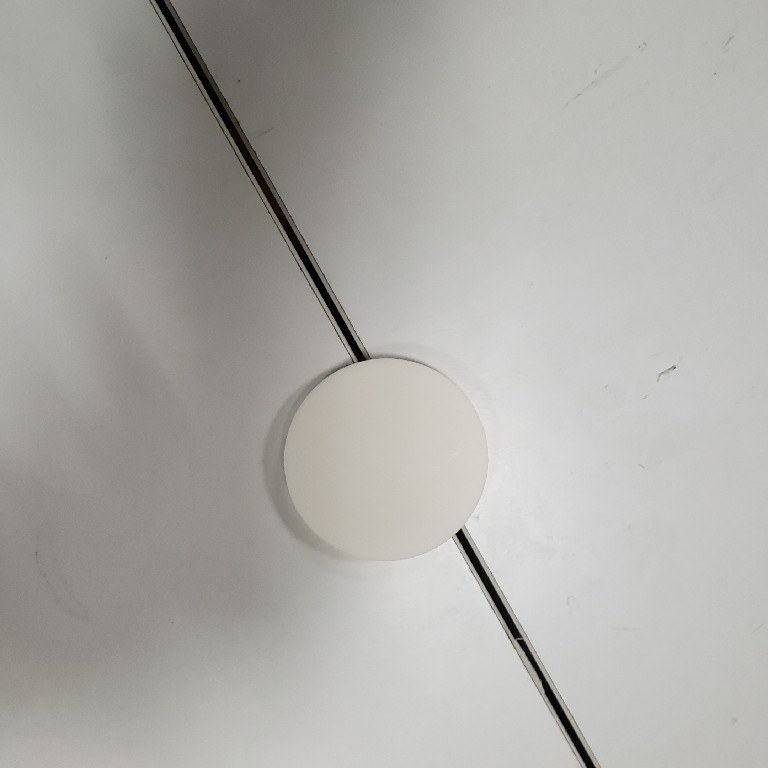ceramics: (277, 352, 491, 565)
